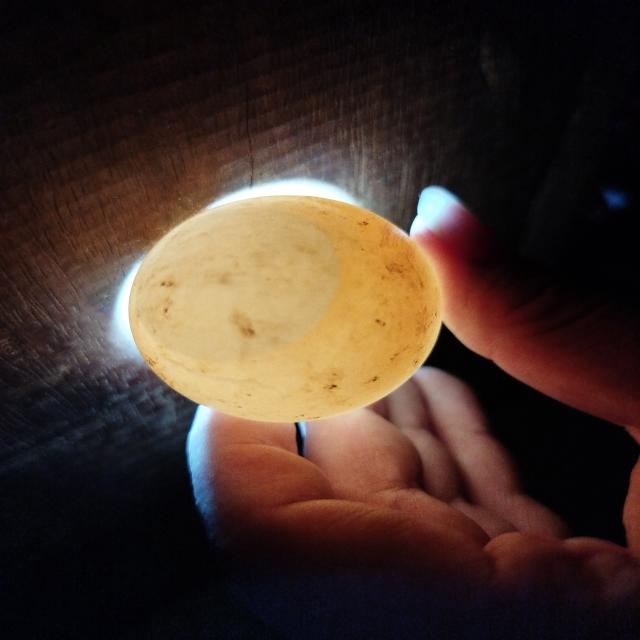Camara de Ar: (140, 208, 339, 357)
